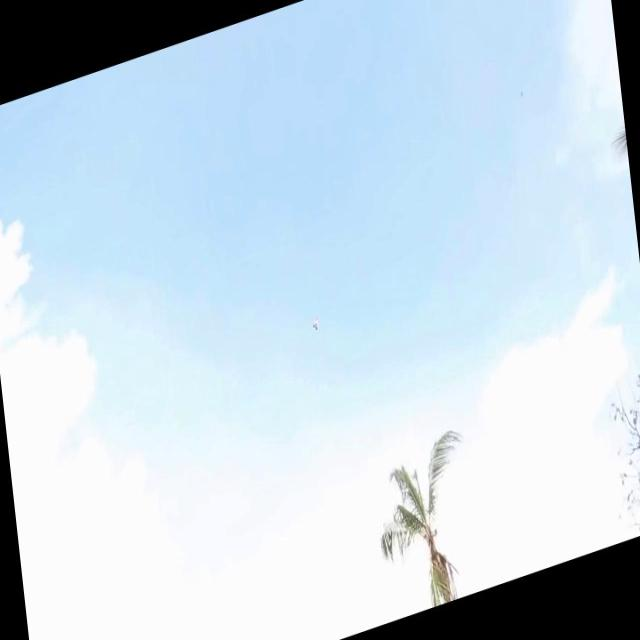drone: (310, 312, 324, 341)
